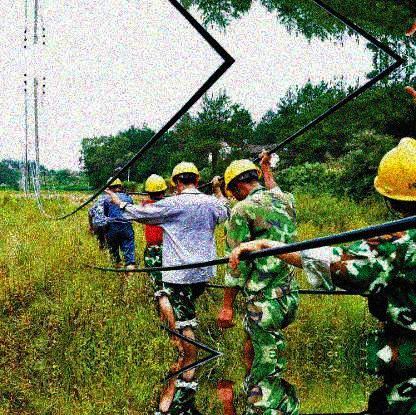helmet: (373, 135, 415, 223), (224, 159, 263, 200), (168, 160, 201, 194), (144, 174, 167, 202), (109, 178, 120, 192)
